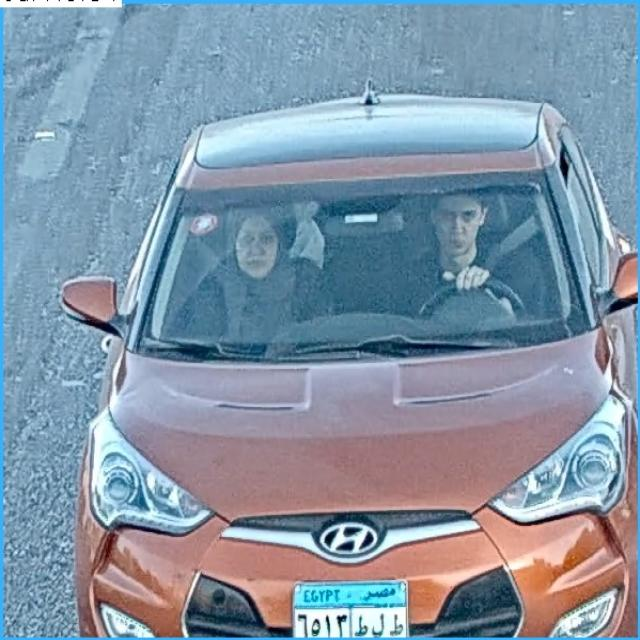windshield: (151, 180, 565, 337)
